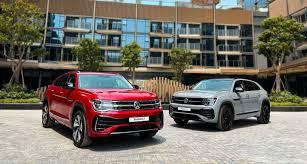volkswagen: (132, 100, 144, 113), (183, 96, 192, 106)
